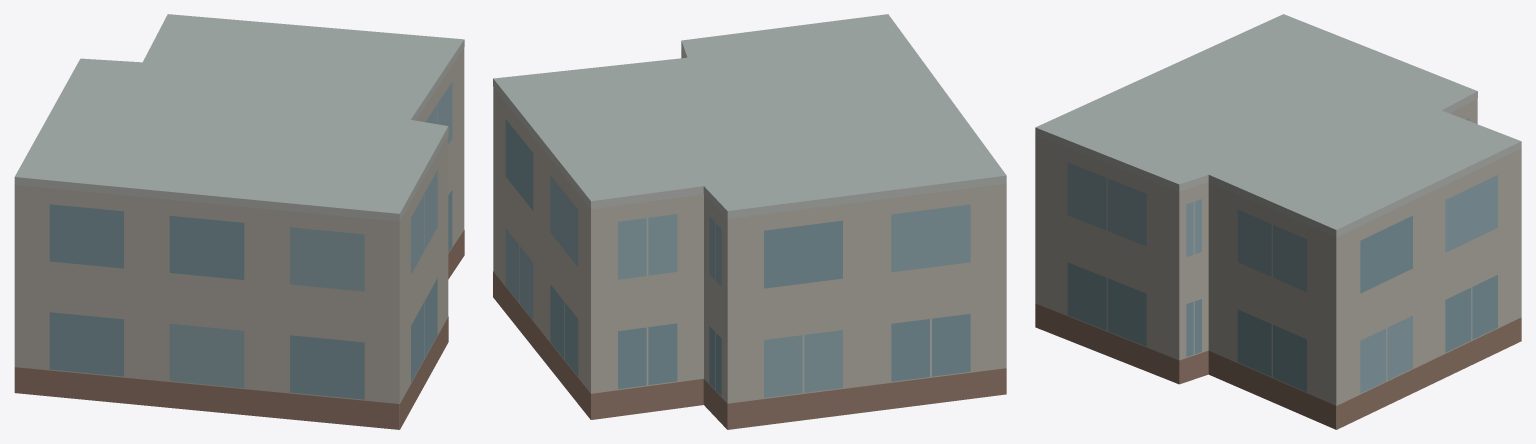
File: survey-upis-32491149.glb
The picture shows the model from 3 angles, left to right: view 1: azimuth 30°, elevation 25°; view 2: azimuth 150°, elevation 25°; view 3: azimuth 270°, elevation 25°; orthographic projection. The views are drawn at different scales.
Parts seen in each view (by area): view 1: survey-upis-32491149.tmp; view 2: survey-upis-32491149.tmp; view 3: survey-upis-32491149.tmp.
Part boxes in pixels (x1,y1,x2,y2): survey-upis-32491149.tmp: [14, 14, 464, 429]; survey-upis-32491149.tmp: [493, 14, 1006, 429]; survey-upis-32491149.tmp: [1035, 14, 1521, 429].
Bounding box in the file's own units: 15.54 × 6.7 × 14.78.
